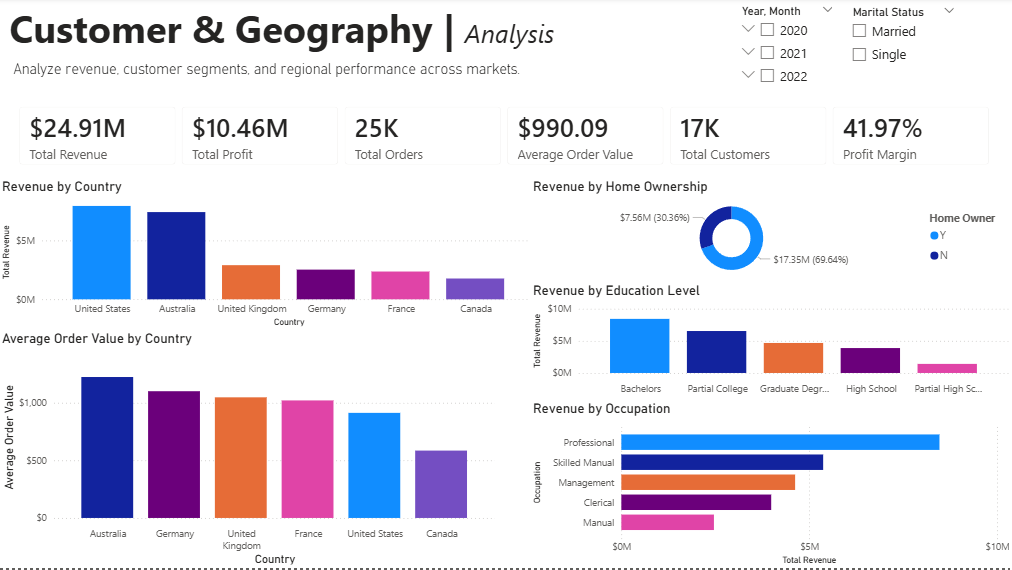

What the dashboard file says about the page in this screenshot:
{"tool":"powerbi","page":{"name":"Customer & Geography Analysis","canvas":[1280,720],"ordinal":2},"visuals":[{"type":"textbox","box":[9.4,0,788,86.9],"z":0},{"type":"textbox","box":[9.4,73.7,841,62.4],"z":1000},{"type":"cardVisual","fields":{"Data":["sales_clean.Total revenue","sales_clean.Total profit","sales_clean.Total Orders","sales_clean.Average Order Value","customers_clean.Total Customers","sales_clean.Profit Margin"]},"box":[9.4,120.9,1256.7,107.7],"z":2000},{"type":"slicer","fields":{"Values":["calendar_clean.Date.Variation.Date Hierarchy.Year","calendar_clean.Date.Variation.Date Hierarchy.Month"]},"box":[924.1,3.8,139.8,132.3],"z":3000},{"type":"columnChart","title":"Revenue by Country","fields":{"Category":["territories_clean.Country"],"Y":["sales_clean.Total Revenue"],"Series":["territories_clean.Country"]},"box":[0,228.7,682.2,190.9],"z":4000},{"type":"barChart","title":"Revenue by Occupation","fields":{"Category":["customers_clean.Occupation"],"Y":["sales_clean.Total Revenue"],"Series":["customers_clean.Occupation"]},"box":[669,508.4,610.4,211.7],"z":5000},{"type":"donutChart","title":"Revenue by Home Ownership","fields":{"Category":["customers_clean.HomeOwner"],"Y":["sales_clean.Total Revenue"]},"box":[669,228.7,610.4,130.4],"z":6000},{"type":"columnChart","title":"Revenue by Education Level","fields":{"Category":["customers_clean.EducationLevel"],"Y":["sales_clean.Total Revenue"],"Series":["customers_clean.EducationLevel"]},"box":[669,359.1,610.4,149.3],"z":7000},{"type":"columnChart","title":"Average Order Value by Country","fields":{"Category":["territories_clean.Country"],"Y":["sales_clean.Average Order Value"],"Series":["territories_clean.Country"]},"box":[0,419.5,631.2,300.5],"z":8000},{"type":"slicer","fields":{"Values":["customers_clean.Marital Status Label"]},"box":[1063.9,5.7,153.1,128.5],"z":9001}]}

Visuals, with their boxes in screenshot pixels (x1, y1, x2, y2), scaled from the page's 1280x720 canvas onto the 1012x570 screenshot:
textbox: <box>7,0,630,69</box>
textbox: <box>7,58,672,108</box>
cardVisual - sales_clean.Total revenue x sales_clean.Total profit: <box>7,96,1001,181</box>
slicer - calendar_clean.Date.Variation.Date Hierarchy.Year x calendar_clean.Date.Variation.Date Hierarchy.Month: <box>731,3,841,108</box>
"Revenue by Country" columnChart: <box>0,181,539,332</box>
"Revenue by Occupation" barChart: <box>529,402,1011,569</box>
"Revenue by Home Ownership" donutChart: <box>529,181,1011,284</box>
"Revenue by Education Level" columnChart: <box>529,284,1011,402</box>
"Average Order Value by Country" columnChart: <box>0,332,499,569</box>
slicer - customers_clean.Marital Status Label: <box>841,5,962,106</box>
